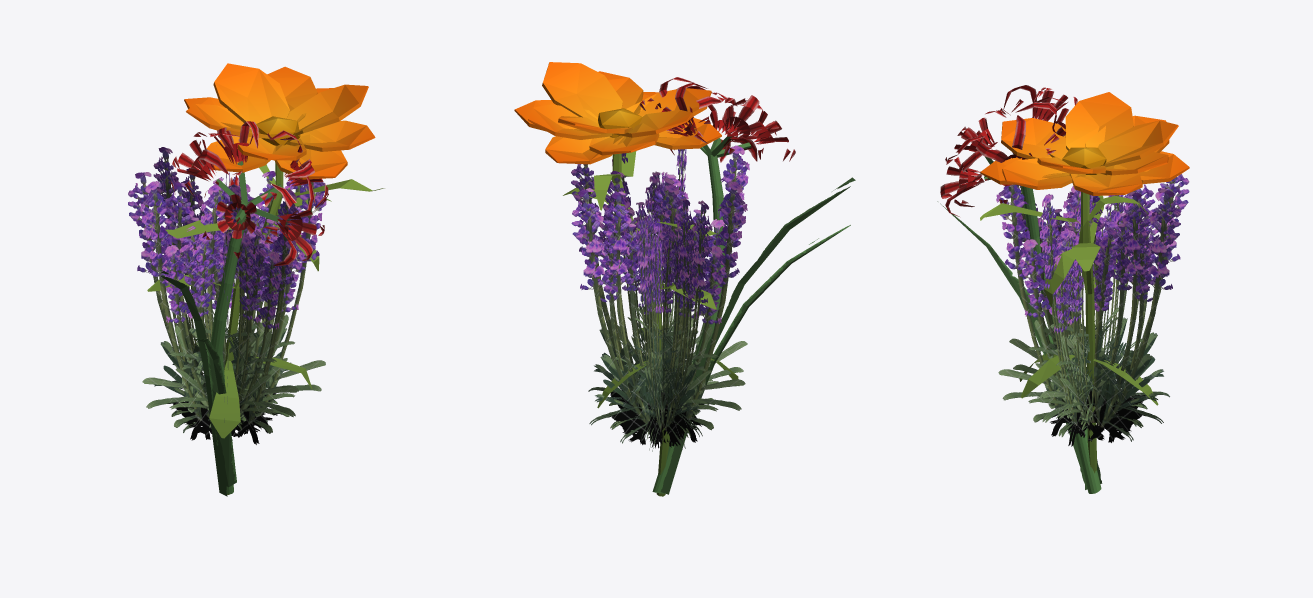
The model's file is flowers.glb.
3 renders of one model, left to right at view 1: azimuth 30°, elevation 25°; view 2: azimuth 150°, elevation 25°; view 3: azimuth 270°, elevation 25°, orthographic.
Visible parts, largest first — view 1: flower_purple, flower_orange, flower_red; view 2: flower_purple, flower_orange, flower_red; view 3: flower_purple, flower_orange, flower_red.
Boxes of the visible parts, left/top/right/bottom form: flower_purple: left=128, top=147, right=328, bottom=444; flower_orange: left=147, top=63, right=384, bottom=494; flower_red: left=159, top=121, right=328, bottom=496; flower_purple: left=571, top=145, right=749, bottom=451; flower_orange: left=514, top=62, right=738, bottom=496; flower_red: left=639, top=77, right=855, bottom=494; flower_purple: left=996, top=152, right=1189, bottom=446; flower_orange: left=980, top=92, right=1189, bottom=493; flower_red: left=937, top=85, right=1102, bottom=493.
Size of the model in its own units: 1 by 1 by 0.9617.
3 materials, 3 textured.
